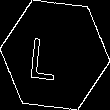L_N: (38, 28, 72, 82)
